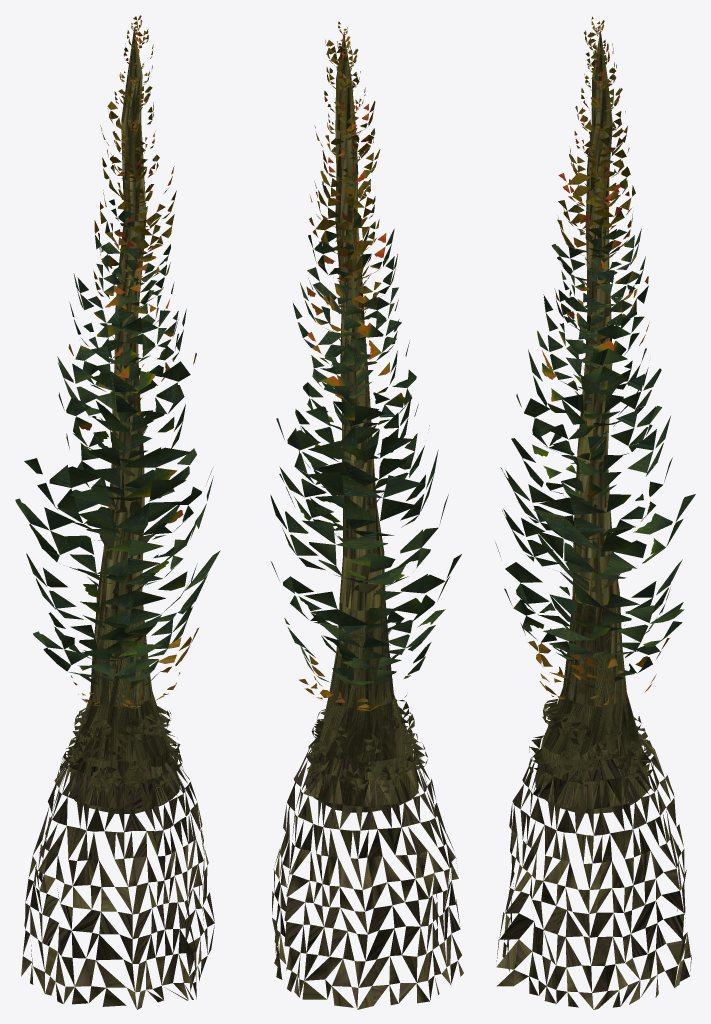
File: Plant - Alien Plant 04-CaqCGijB.glb
The picture shows the model from 3 angles, left to right: view 1: azimuth 30°, elevation 25°; view 2: azimuth 150°, elevation 25°; view 3: azimuth 270°, elevation 25°; orthographic projection.
Parts seen in each view (by area): view 1: Plant4_L0(Clone); view 2: Plant4_L0(Clone); view 3: Plant4_L0(Clone).
Part boxes in pixels (x1,y1,x2,y2): Plant4_L0(Clone): (15, 15, 220, 1009); Plant4_L0(Clone): (270, 21, 463, 1009); Plant4_L0(Clone): (495, 16, 695, 1009).
Size of the model in its own units: 1.23 by 6.34 by 1.2.
3 materials, 3 textured.
